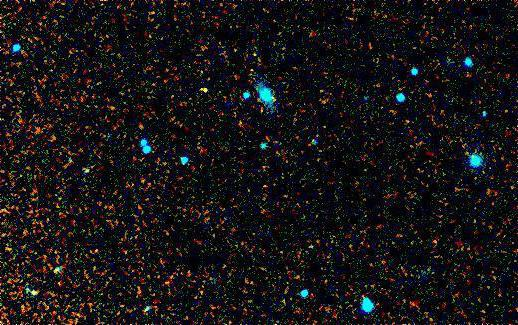star: (191, 76, 221, 106)
